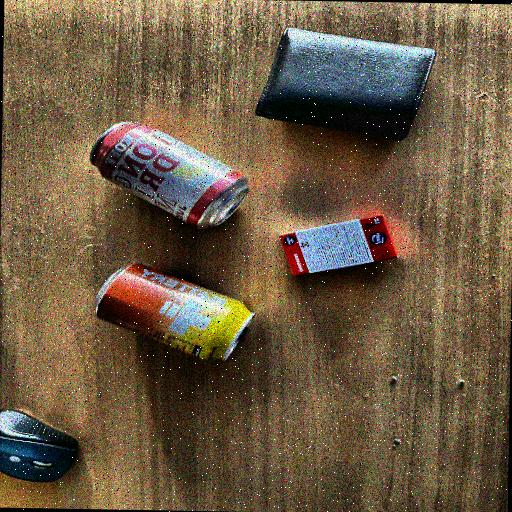koff: (85, 106, 266, 234)
